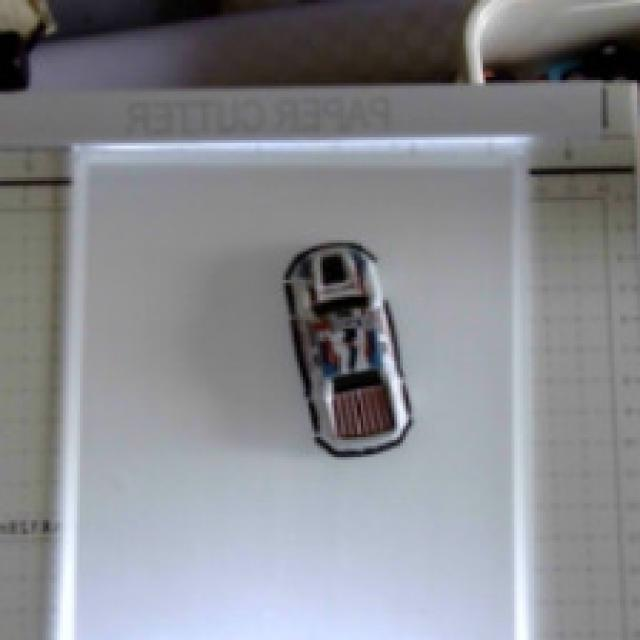Grey Car: (231, 210, 461, 484)
